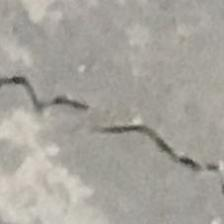Crack: (0, 67, 224, 186)
